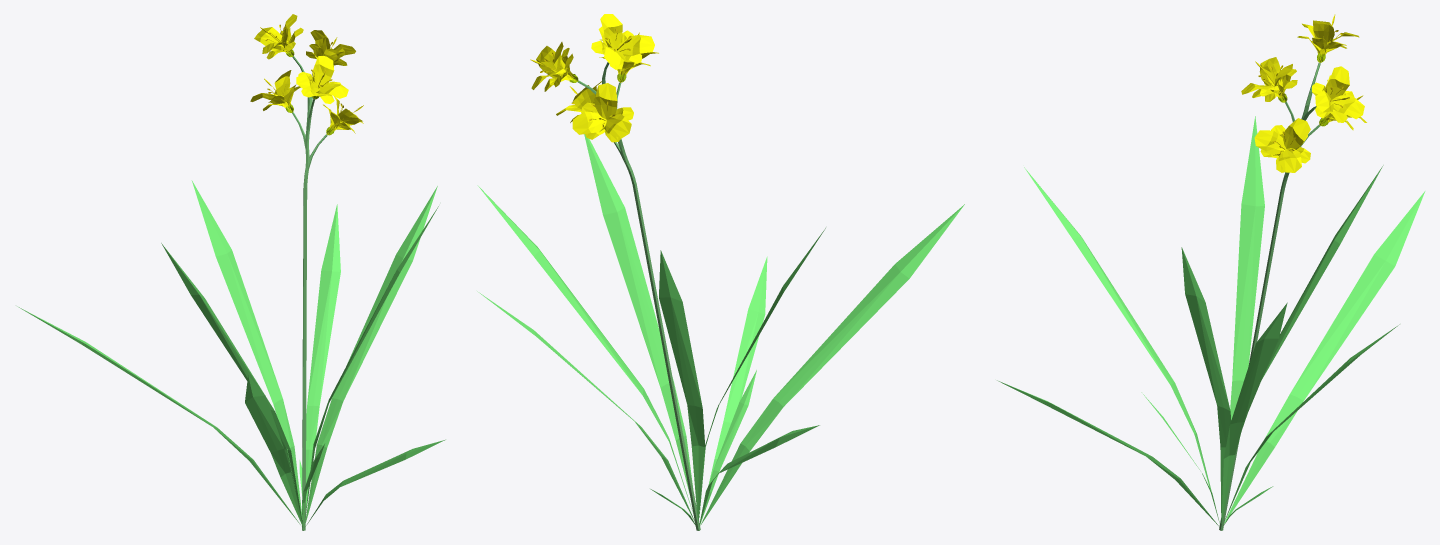
The picture shows the model from 3 angles, left to right: view 1: azimuth 30°, elevation 25°; view 2: azimuth 150°, elevation 25°; view 3: azimuth 270°, elevation 25°; orthographic projection. The views are drawn at different scales.
Parts seen in each view (by area): view 1: 1Daylily; view 2: 1Daylily; view 3: 1Daylily.
Part boxes in pixels (x1=…): 1Daylily: x1=17, y1=14, x2=445, y2=530; 1Daylily: x1=477, y1=14, x2=964, y2=530; 1Daylily: x1=997, y1=14, x2=1425, y2=530.
Size of the model in its own units: 9.69 by 12.1 by 8.93.
